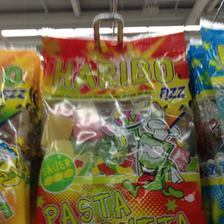candy: (35, 30, 195, 224)
